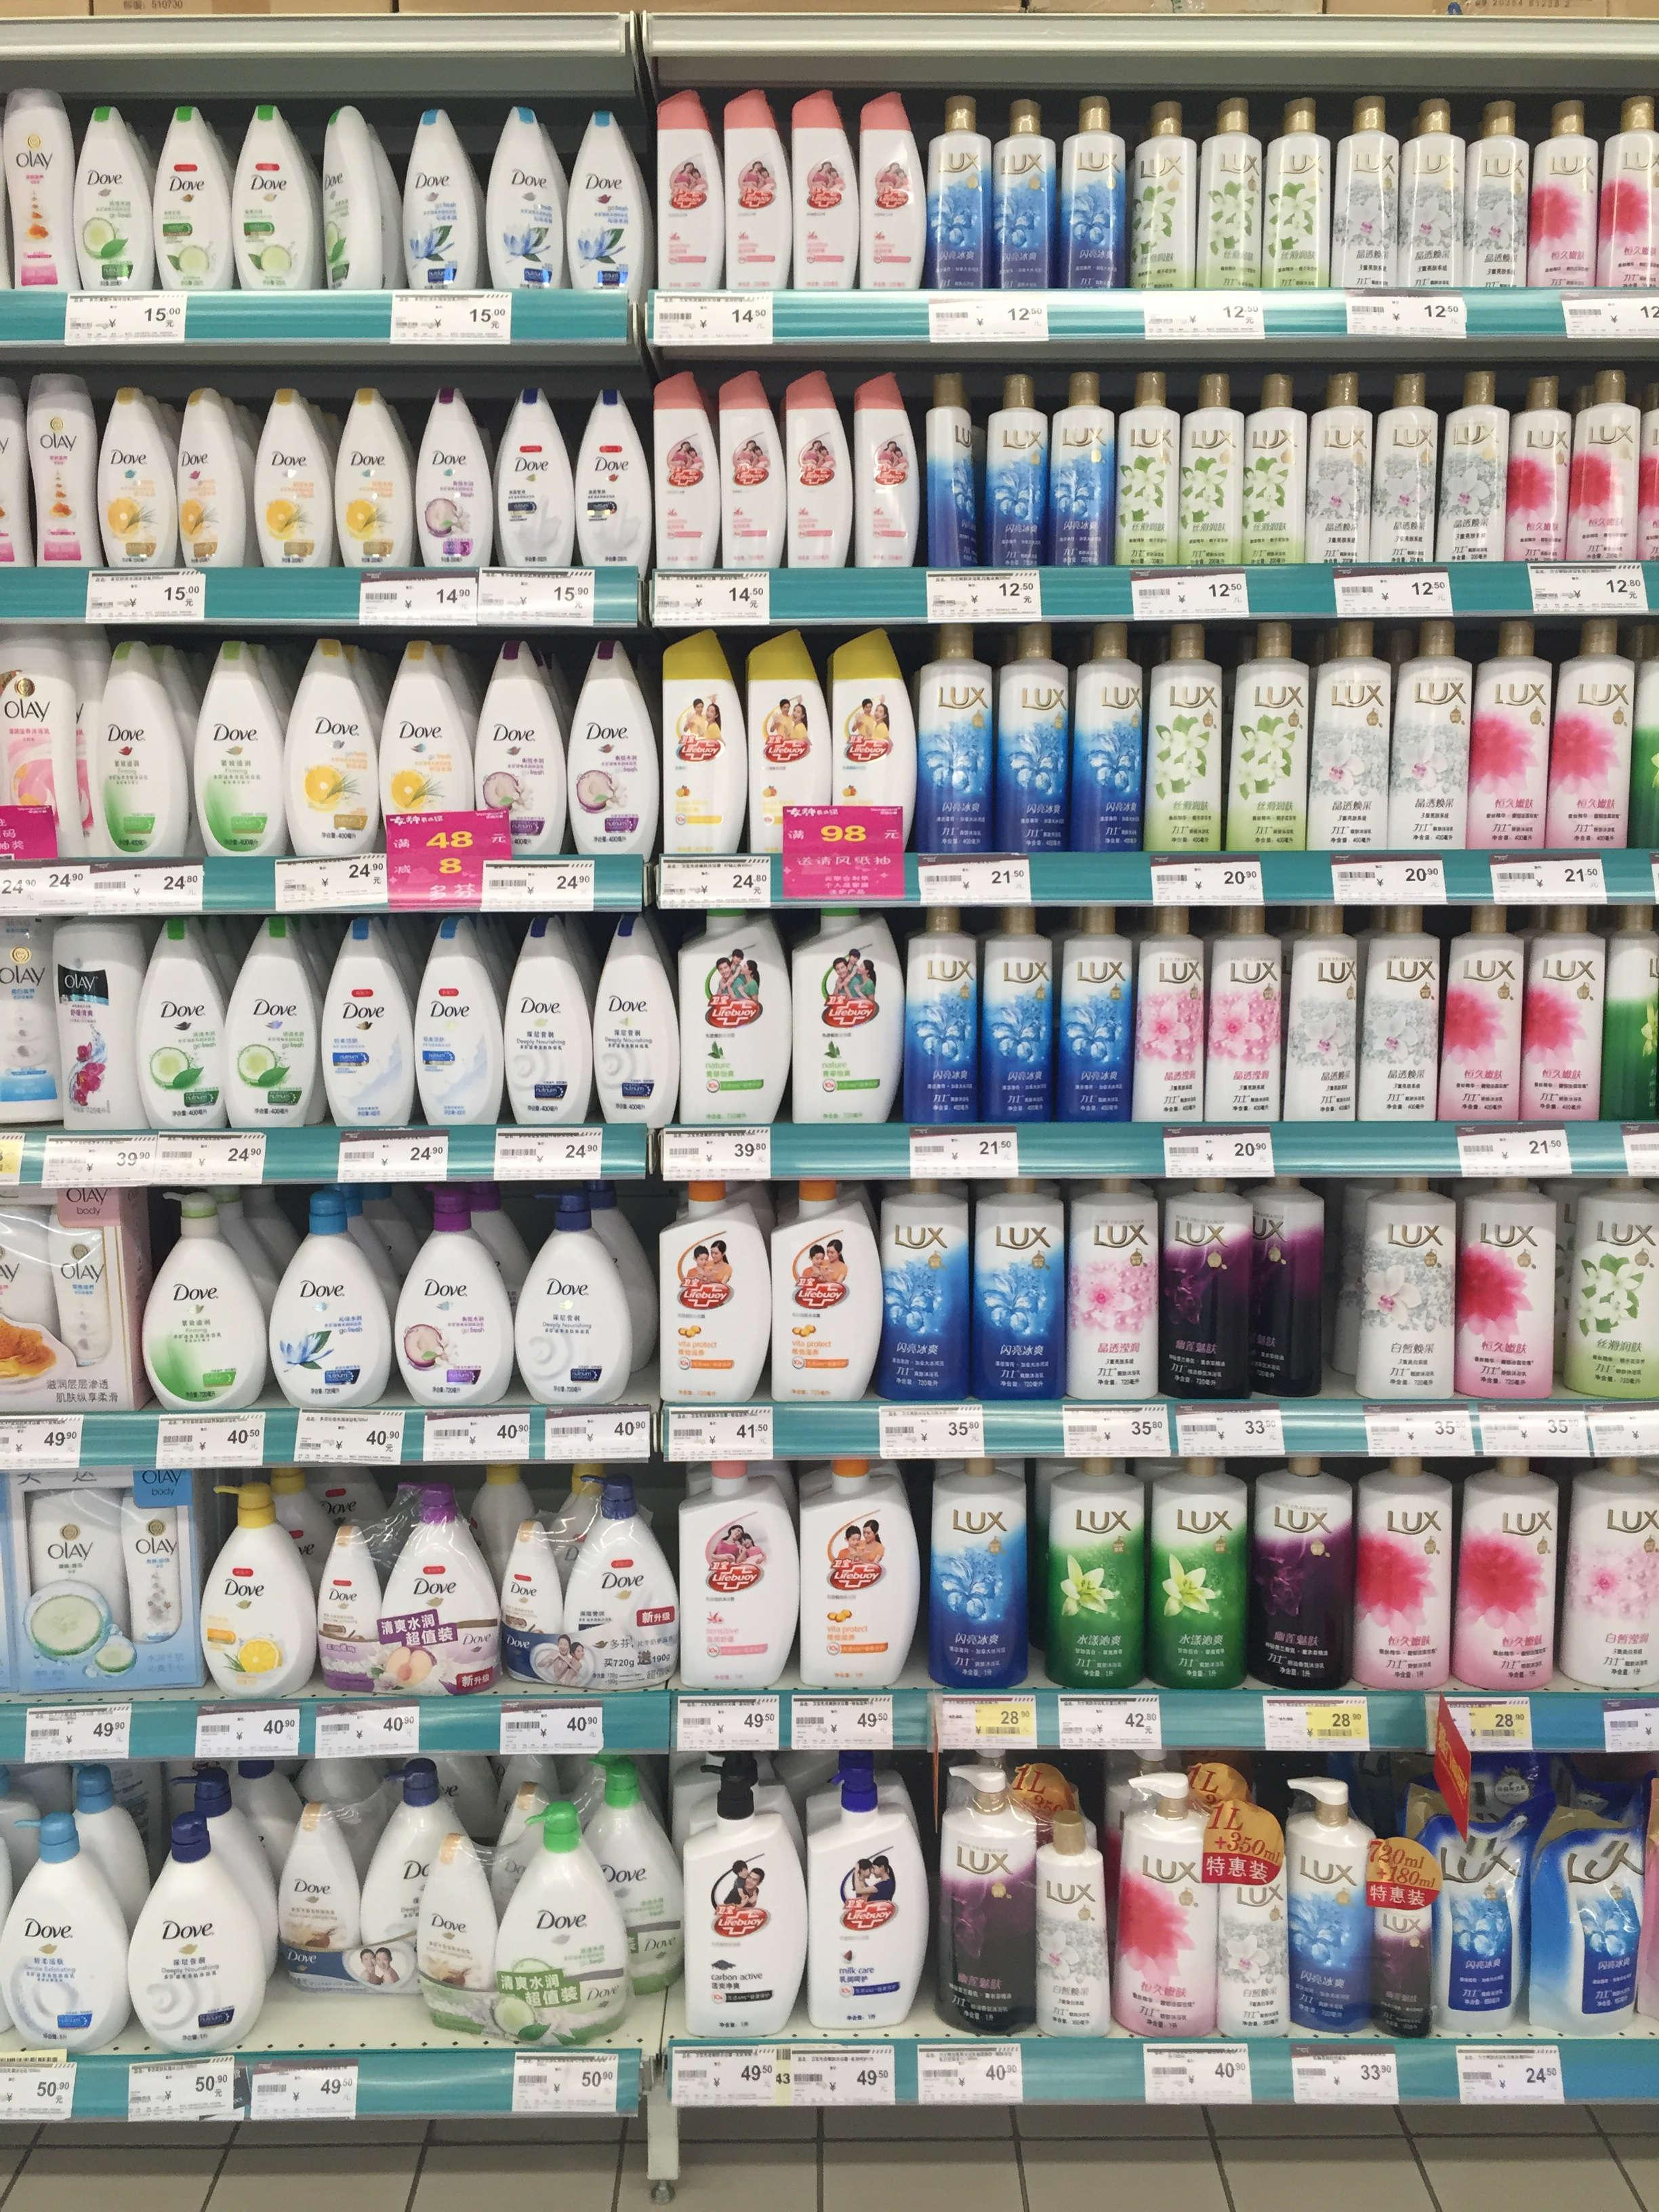misalignment: (1249, 1177, 1337, 1399), (1171, 1179, 1253, 1395), (164, 385, 247, 571), (310, 99, 392, 284), (917, 364, 979, 566)
